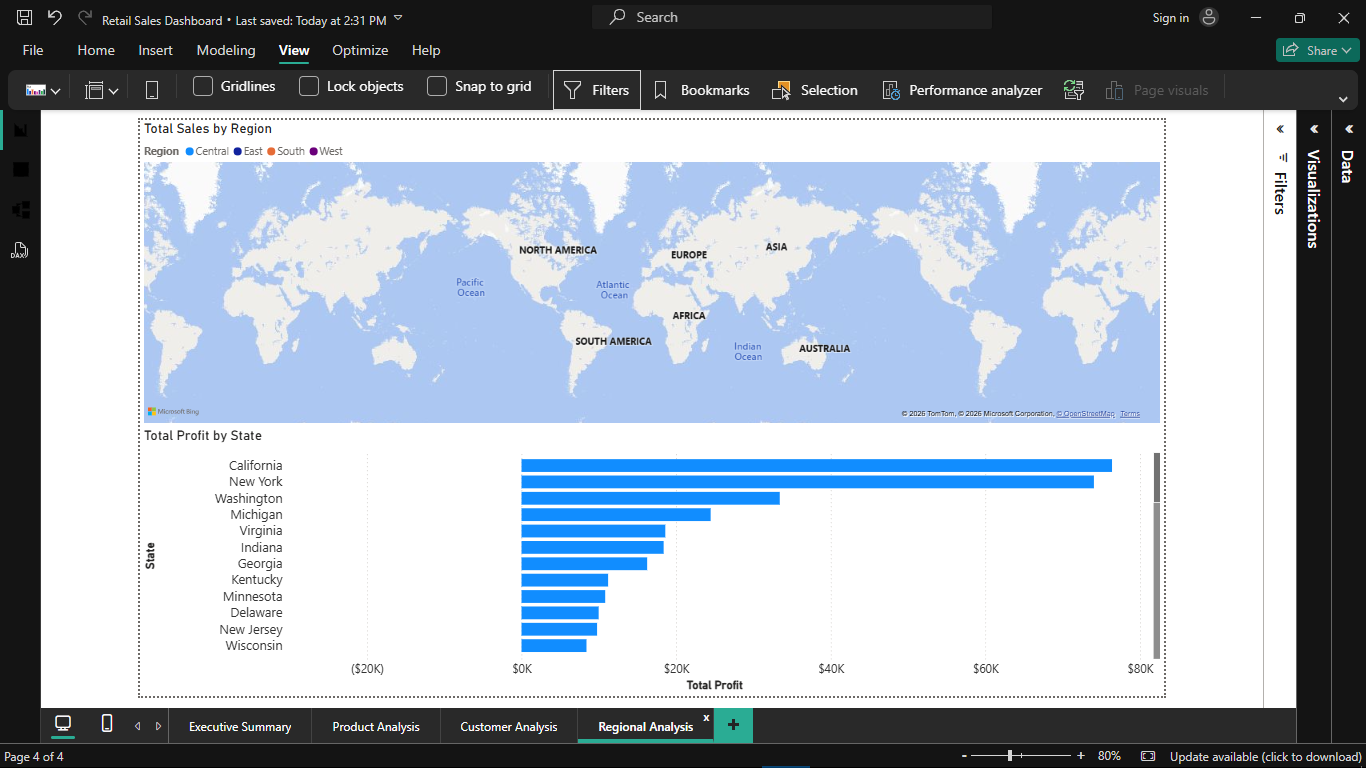

The page's visual inventory and layout, read from the dashboard file:
{"tool":"powerbi","page":{"name":"Regional Analysis","canvas":[1280,720],"ordinal":3},"visuals":[{"type":"map","fields":{"Series":["Sample - Superstore.Region"],"Size":["_Measures.Total Sales"]},"box":[0,0,1280,384],"z":0},{"type":"clusteredBarChart","fields":{"Y":["_Measures.Total Profit"],"Category":["Sample - Superstore.State"]},"box":[0,384,1280,335.8],"z":1}]}

Visuals, with their boxes on the page's 1280x720 design canvas (x1, y1, x2, y2). These are canvas units, not pixel positions in the 1366x768 screenshot, which may show the page scaled, cropped or inside an application window:
map - Sample - Superstore.Region x _Measures.Total Sales: 0/0/1280/384
clusteredBarChart - _Measures.Total Profit x Sample - Superstore.State: 0/384/1280/720
